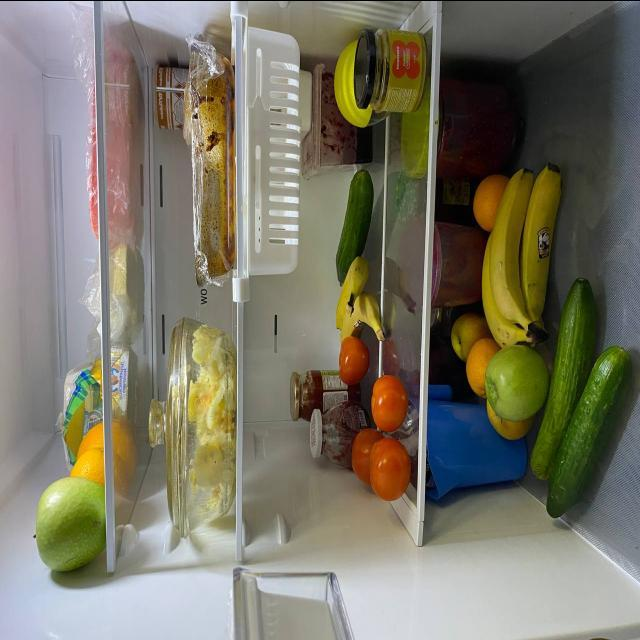Apple: (38, 478, 107, 576), (488, 348, 543, 422), (451, 314, 488, 354), (491, 410, 528, 440)
Banana: (479, 174, 556, 356), (332, 269, 382, 339)
Cucumber: (537, 342, 626, 516), (531, 270, 591, 477), (337, 170, 370, 282)
Orange: (472, 178, 503, 224), (470, 341, 498, 391), (73, 446, 108, 484), (76, 418, 105, 458)
Tomato: (369, 441, 409, 503), (374, 380, 405, 430), (337, 332, 364, 382), (353, 429, 374, 482)
